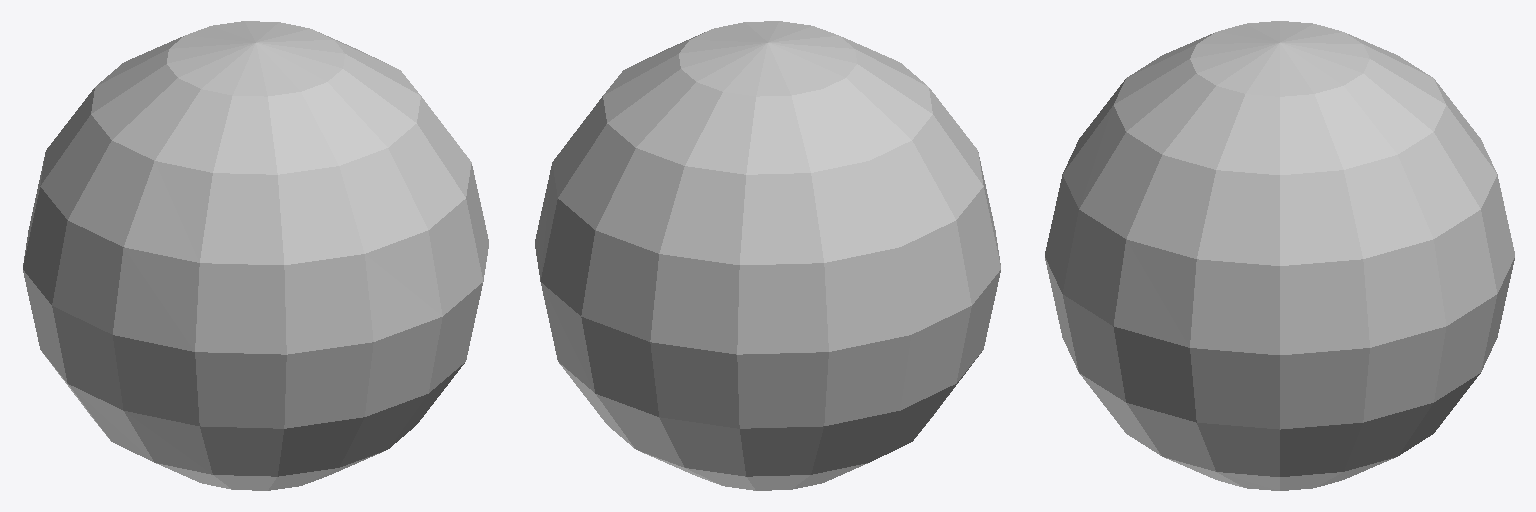
The model's file is corp.obj.
The picture shows the model from 3 angles: view 1: azimuth 30°, elevation 25°; view 2: azimuth 150°, elevation 25°; view 3: azimuth 270°, elevation 25°; orthographic projection.
Visible parts, largest first — view 1: corp001; view 2: corp001; view 3: corp001.
Boxes of the visible parts, x1,y1,x2,y2 form: corp001: [23, 21, 488, 490]; corp001: [535, 21, 1000, 490]; corp001: [1045, 21, 1514, 490].
Bounding box in the file's own units: 1 × 1 × 1.